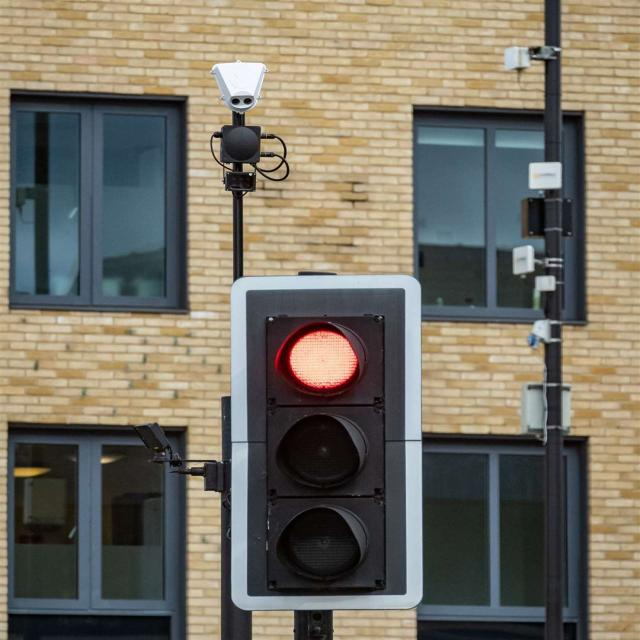red: (264, 310, 368, 404)
